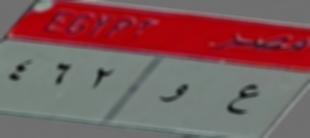2: (86, 57, 119, 98)
4: (5, 56, 35, 90)
6: (48, 56, 74, 93)
ain: (213, 77, 260, 126)
waw: (162, 73, 191, 116)
